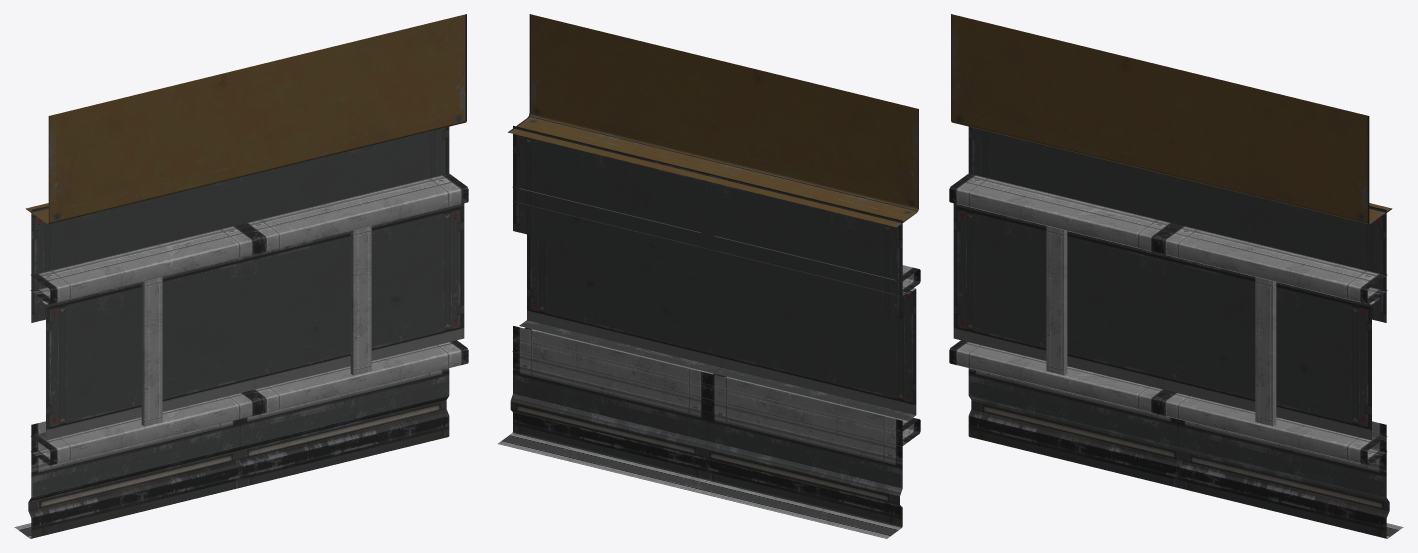
Rendered from Subway_wall_Large1_Half_B.fbx.
3 views of the same model, side by side, from view 1: azimuth 30°, elevation 25°; view 2: azimuth 150°, elevation 25°; view 3: azimuth 330°, elevation 25° (orthographic). The views are drawn at different scales.
Visible parts, largest first — view 1: polySurface839; view 2: polySurface839; view 3: polySurface839.
Part boxes in pixels (x1,y1,x2,y2): polySurface839: [14, 14, 468, 538]; polySurface839: [498, 14, 920, 538]; polySurface839: [949, 14, 1403, 538].
Bounding box in the file's own units: 400 × 399 × 59.73.
